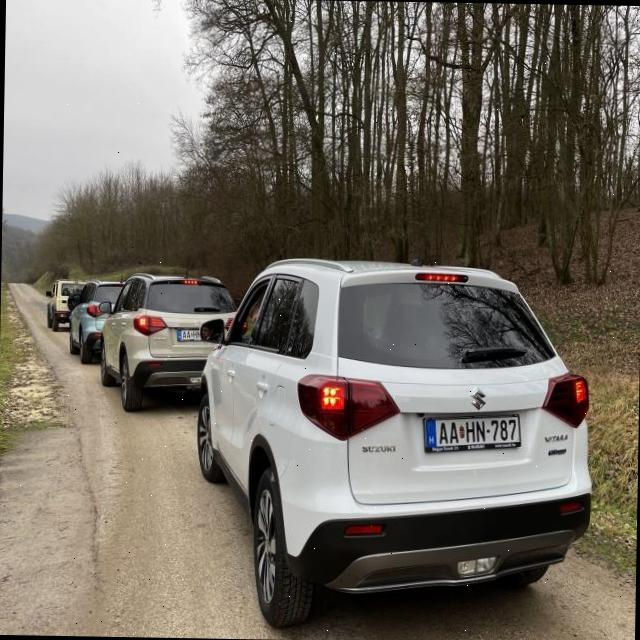licence: (424, 408, 520, 459)
